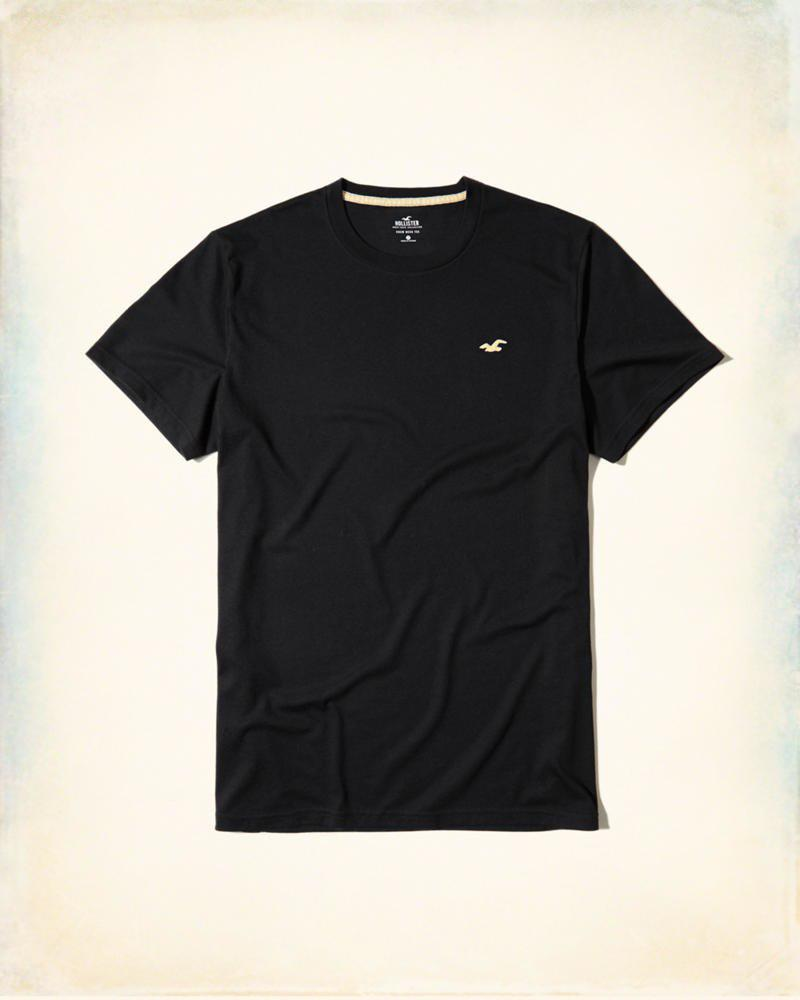teeshirt: (58, 156, 738, 871)
